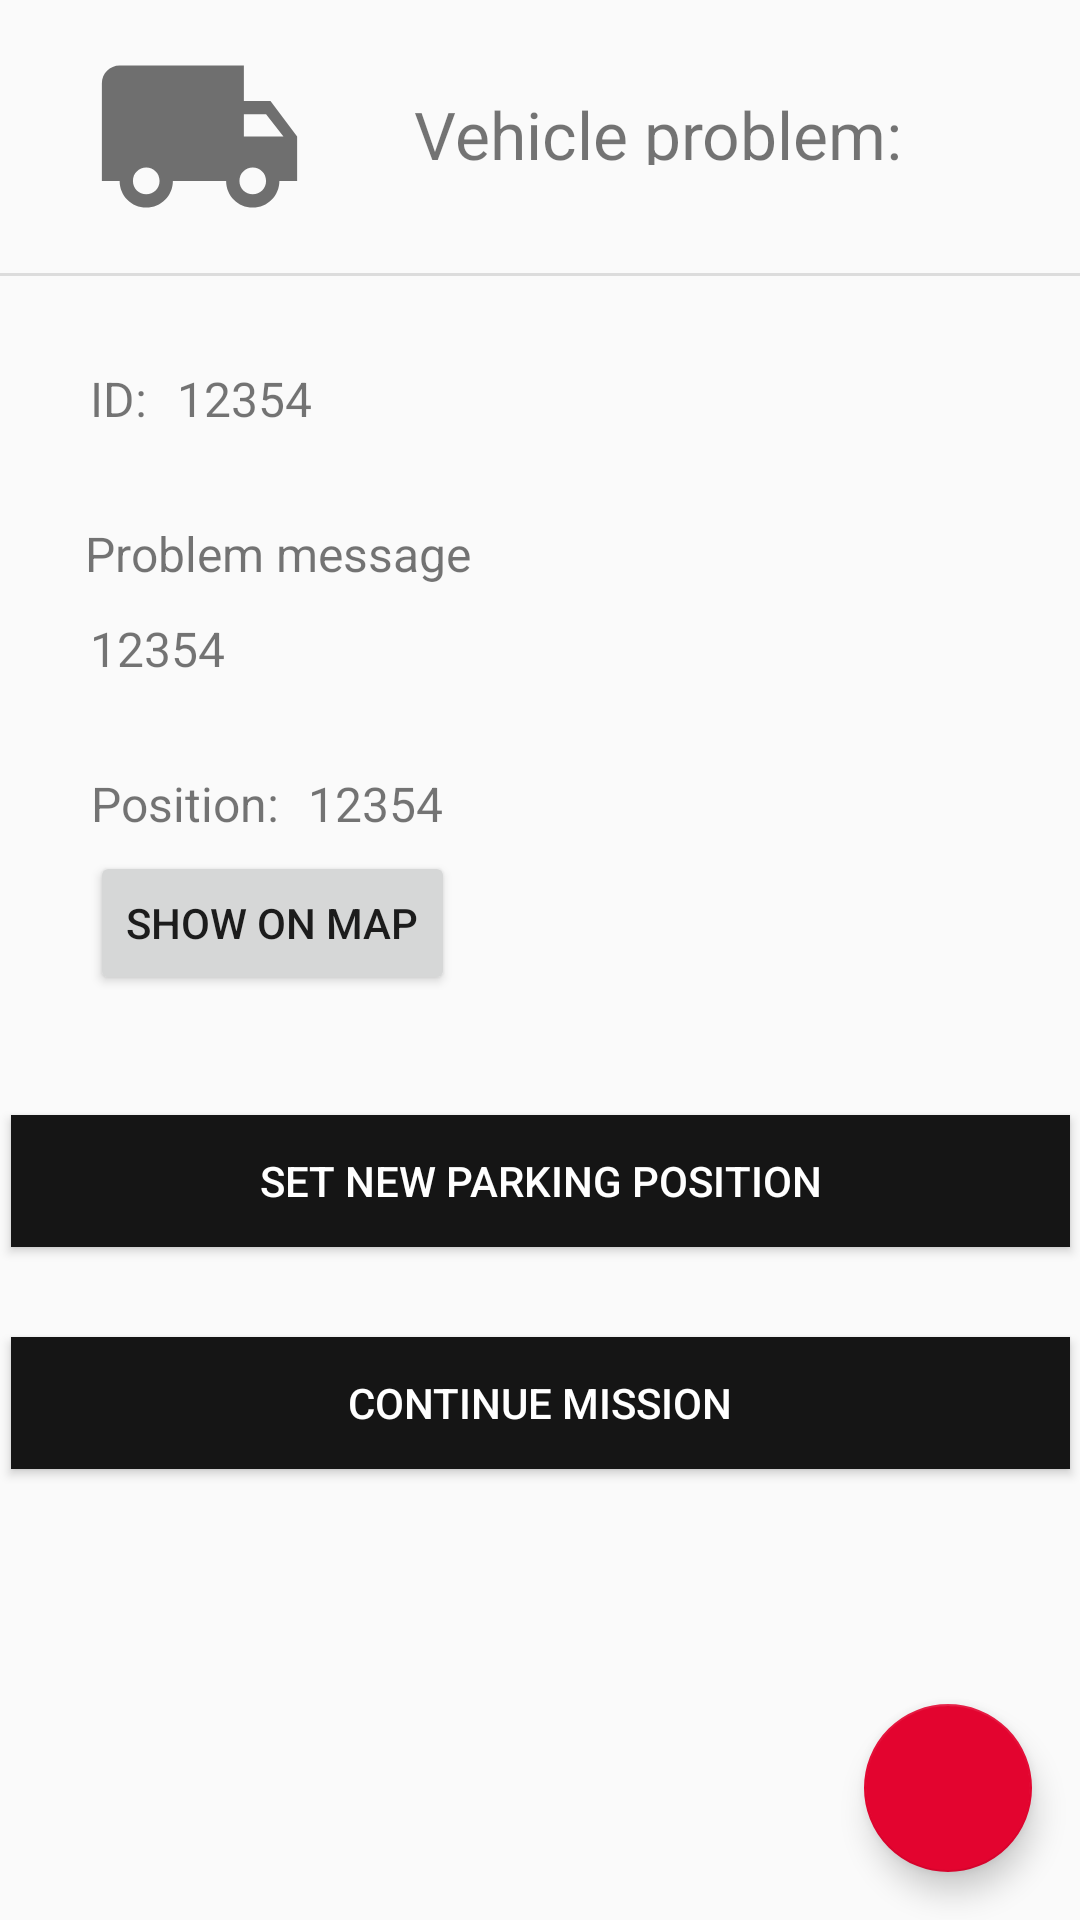

Icons on this 1080×1920 Android screen, each with its box as bbox(x1, y1, x2, y2):
local shipping: bbox(102, 65, 297, 208)
